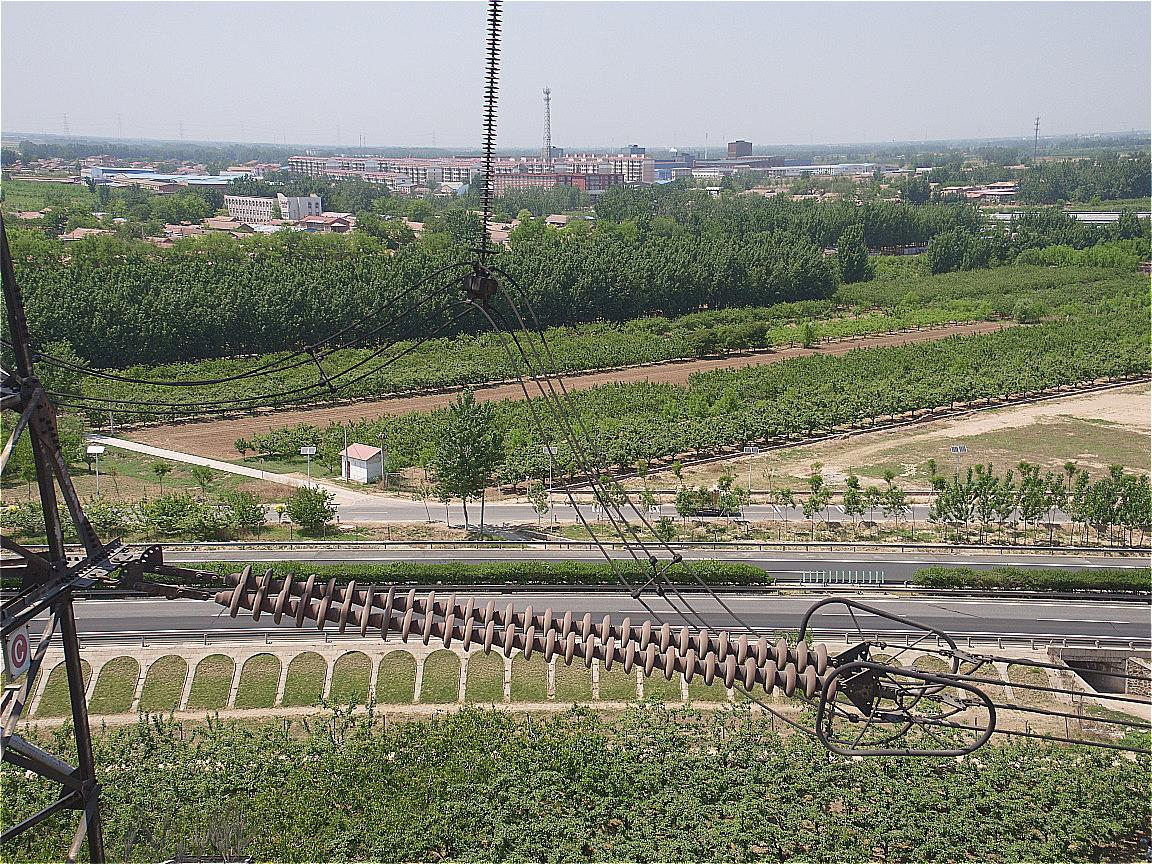insultor1: (230, 564, 840, 703)
